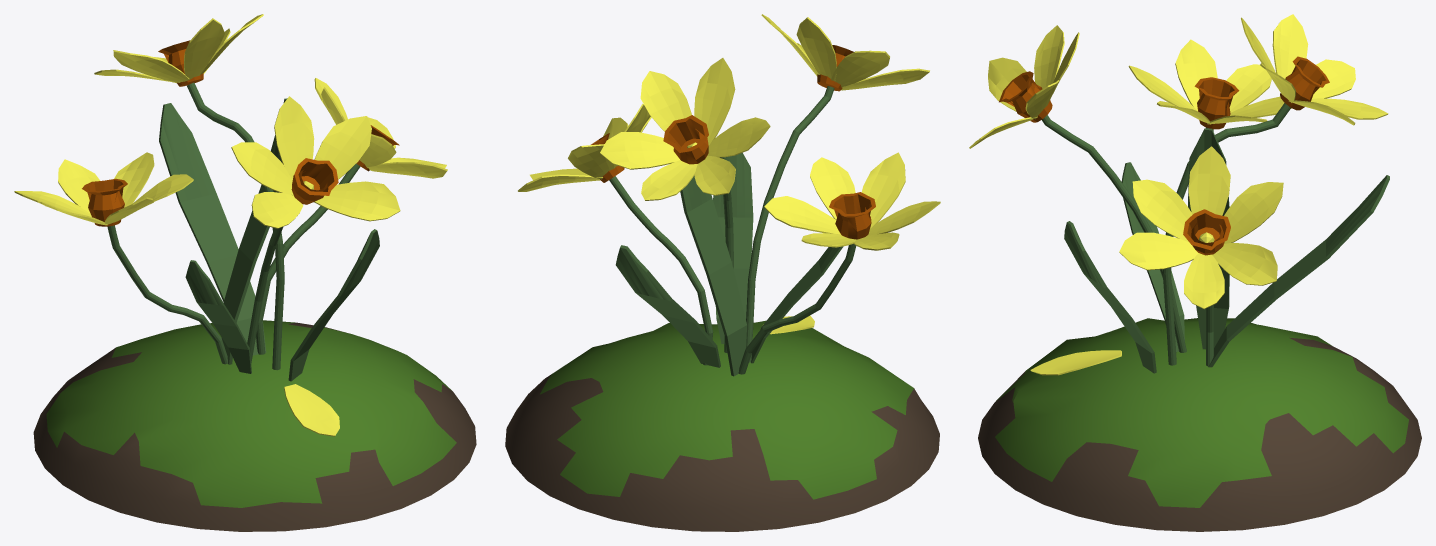
Rendered from 45e6f03a-dbf9-481e-8dbb-5e00a34ff139.glb.
3 renders of one model, left to right at view 1: azimuth 30°, elevation 25°; view 2: azimuth 150°, elevation 25°; view 3: azimuth 270°, elevation 25°, orthographic.
Visible parts, largest first — view 1: Sphere001, GeoSphere002, Box013; view 2: Sphere001, GeoSphere002; view 3: Sphere001, GeoSphere002, Box013.
Part boxes in pixels (x1,y1,x2,y2): Sphere001: (33,320,476,531); GeoSphere002: (14,14,447,381); Box013: (284,384,339,436); Sphere001: (505,320,939,531); GeoSphere002: (518,14,940,376); Sphere001: (978,318,1421,531); GeoSphere002: (969,14,1389,373); Box013: (1030,350,1121,375).
Bounding box in the file's own units: 120 × 114 × 114.
